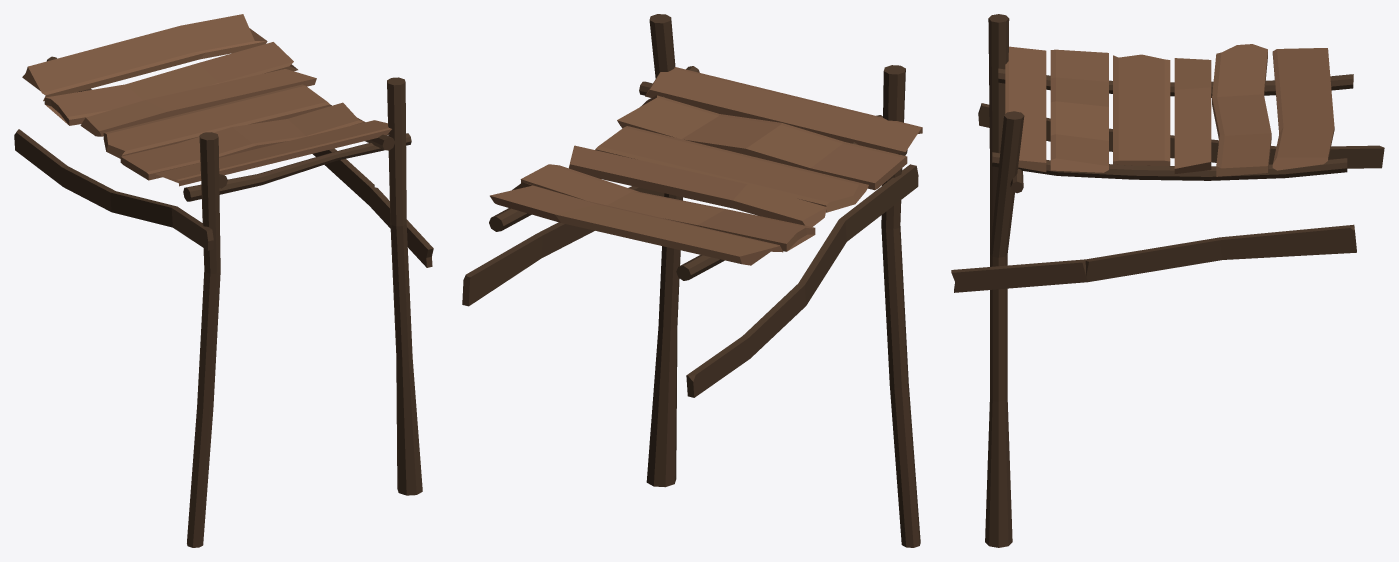
Rendered from Wooden_bridge_2.fbx.
3 views of the same model, side by side, from view 1: azimuth 30°, elevation 25°; view 2: azimuth 150°, elevation 25°; view 3: azimuth 270°, elevation 25° (orthographic). The views are drawn at different scales.
Parts seen in each view (by area): view 1: Wooden_bridge_2; view 2: Wooden_bridge_2; view 3: Wooden_bridge_2.
Part boxes in pixels (box(x1,y1,x2,y2)): Wooden_bridge_2: box(14, 14, 433, 547); Wooden_bridge_2: box(462, 14, 922, 547); Wooden_bridge_2: box(951, 14, 1384, 547).
Bounding box in the file's own units: 97.67 × 152 × 141.
